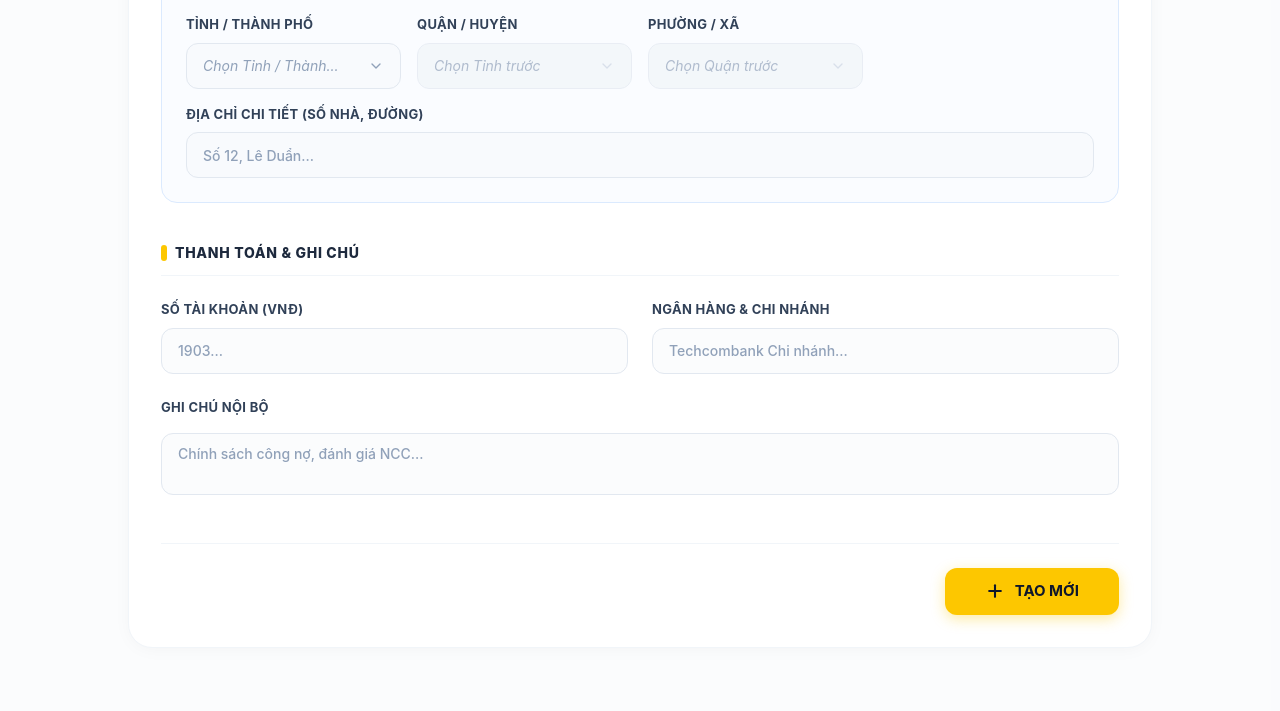
Test: Module 03 - SupplierForm Component › TC02 - Báo lỗi validation khi không nhập các trường bắt buộc
The image size is (1280, 711).
(page scrolled)
Step 1. Click the button "TẠO MỚI" → coordinates (1032, 591), box x1=945 y1=568 x2=1119 y2=614
(page scrolled)
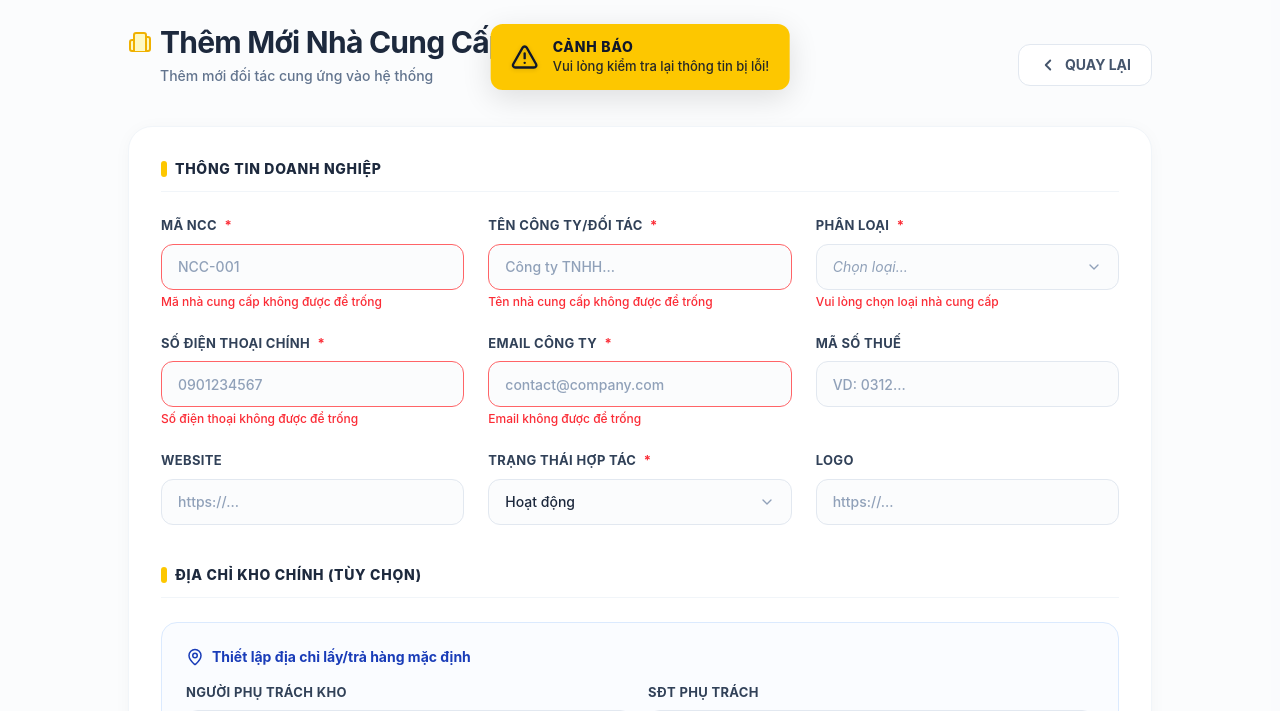
Check: the text "Mã nhà cung cấp không được để trống" is shown, box x1=161 y1=294 x2=382 y2=308
Check: the text "Tên nhà cung cấp không được để trống" is shown, box x1=488 y1=294 x2=713 y2=308
Check: the text "Số điện thoại không được để trống" is shown, box x1=161 y1=411 x2=358 y2=426
